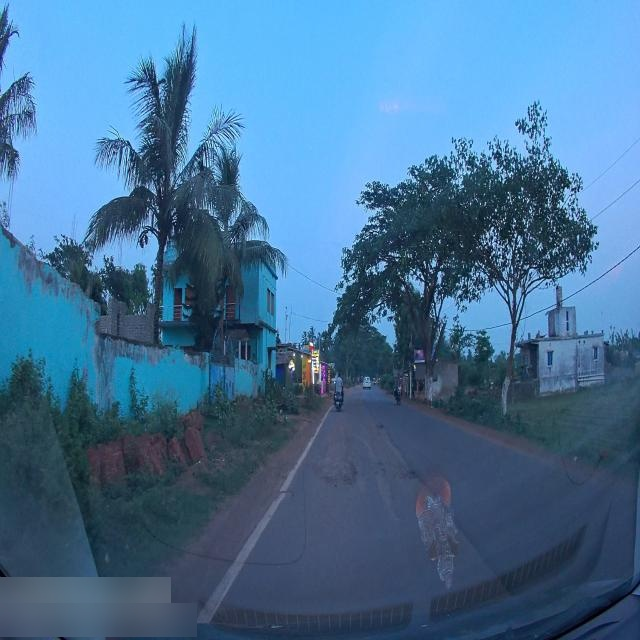pothole: (316, 461, 357, 485), (379, 478, 399, 519), (397, 472, 415, 479), (378, 461, 382, 465), (380, 469, 384, 472)
